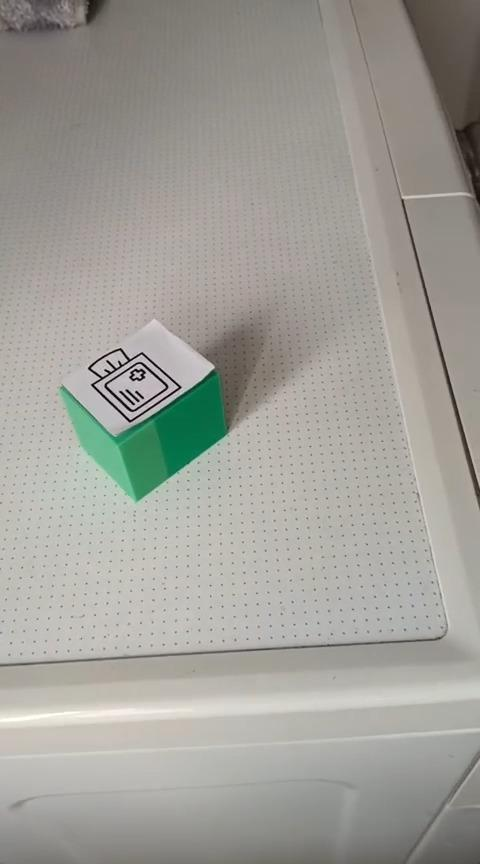Gauze: (58, 316, 229, 503)
